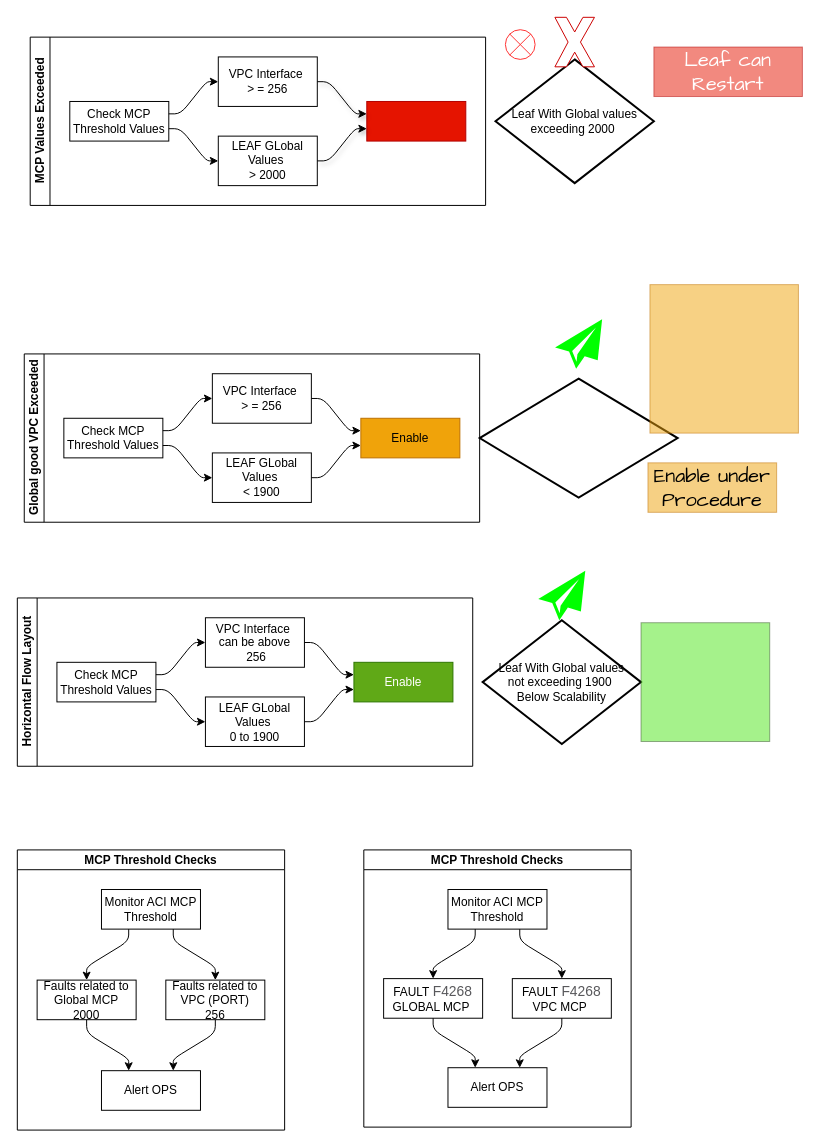
Image size: 820x1147. Some labels were removed from this diagram. The shapes that lost their labels are listed below. From the top down, each one's centre as x and y in pixels, then its label:
At point (416, 120): "STOP".
At point (723, 358): "Combined with Rogue Endpoint Control. ACI Stops the LOOP".
At point (578, 437): "Leaf With Global values not exceeding 1900 but has 256 VLANS Interface level".
At point (705, 682): "Continue Monitoring Thresholds but no issues".
